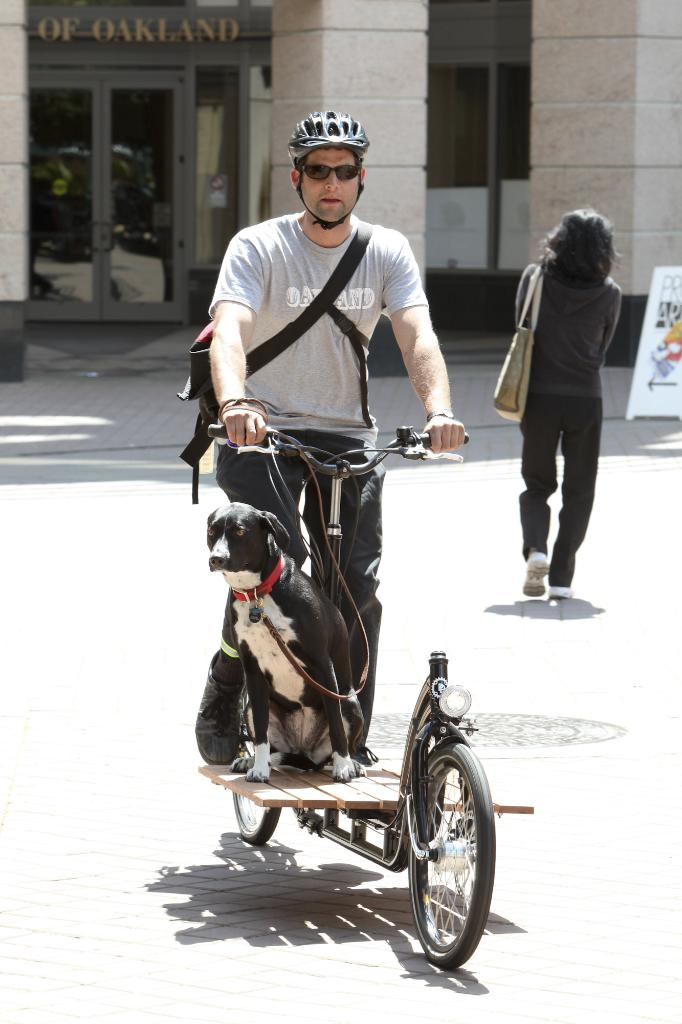Bike: (208, 401, 515, 964)
